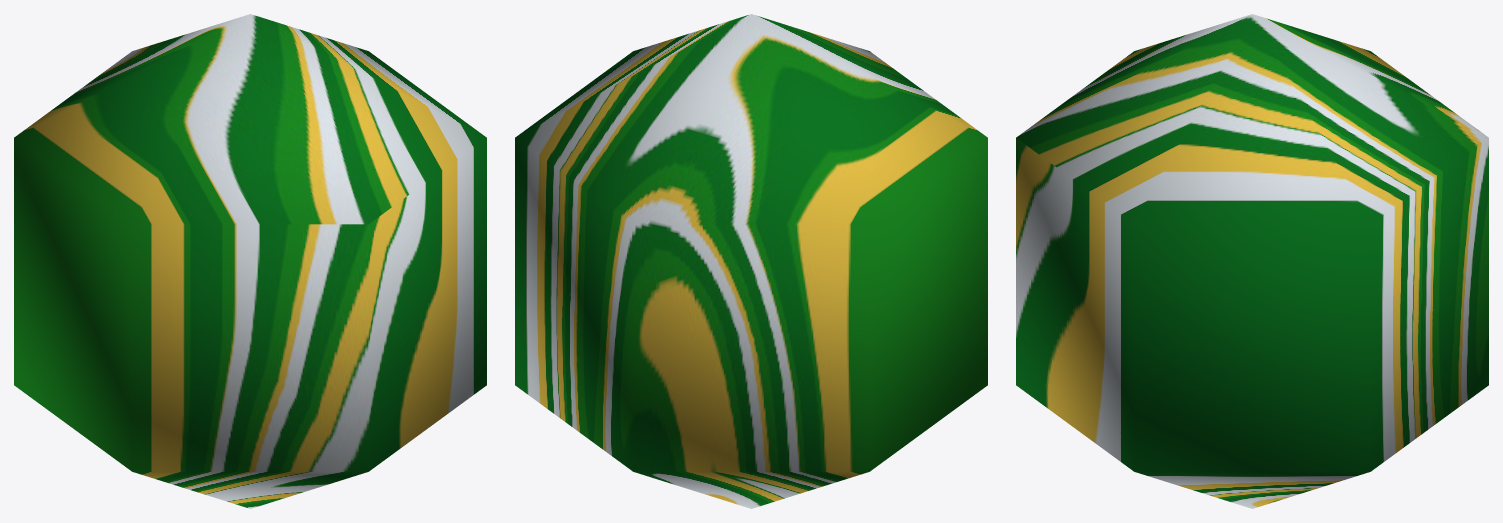
Rendered from junglemarble_shooter.DAE.
The picture shows the model from 3 angles, left to right: view 1: azimuth 30°, elevation 25°; view 2: azimuth 150°, elevation 25°; view 3: azimuth 270°, elevation 25°; orthographic projection.
Visible parts, largest first — view 1: Shooter_F; view 2: Shooter_F; view 3: Shooter_F.
Part boxes in pixels (left/top/right/bottom): Shooter_F: left=14, top=14, right=486, bottom=508; Shooter_F: left=515, top=14, right=987, bottom=508; Shooter_F: left=1016, top=14, right=1488, bottom=508.
Size of the model in its own units: 0.0381 by 0.044 by 0.0508.
1 material, 1 textured.
